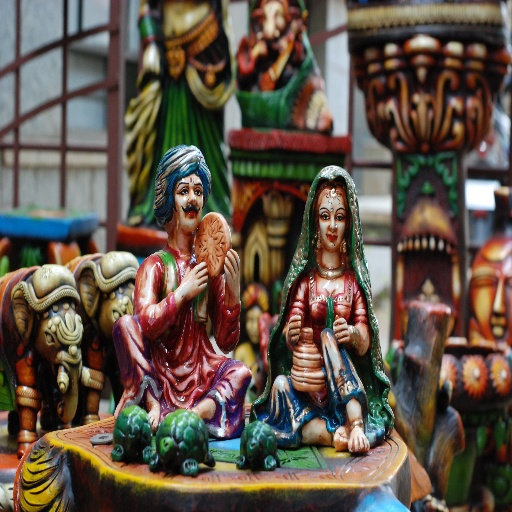hand: (178, 261, 208, 301), (222, 245, 240, 297), (140, 41, 160, 76), (331, 316, 350, 347), (286, 314, 302, 346)
